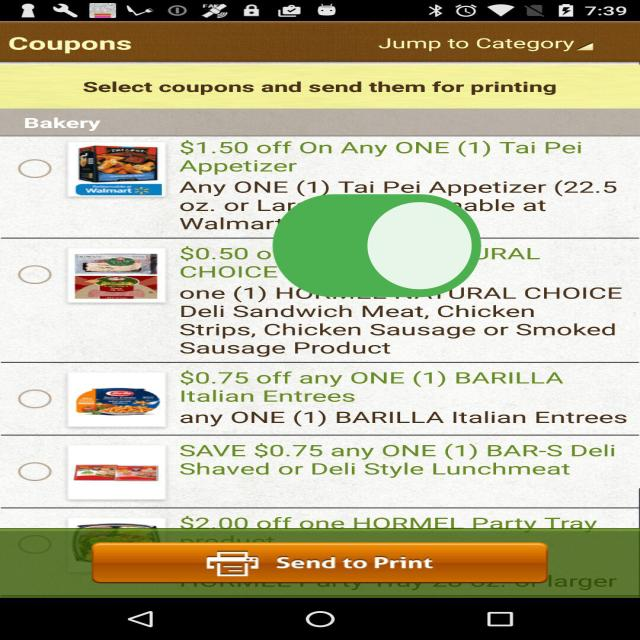social proof: (263, 154, 491, 344)
